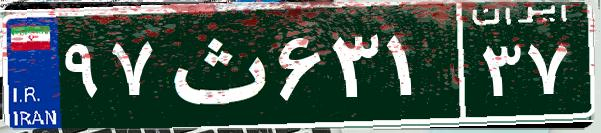1: (385, 28, 445, 110)
3: (330, 28, 385, 110), (475, 38, 525, 113)
6: (273, 28, 330, 110)
7: (110, 28, 158, 105), (525, 38, 570, 115)
9: (57, 26, 110, 107)
ث: (158, 15, 273, 115)
